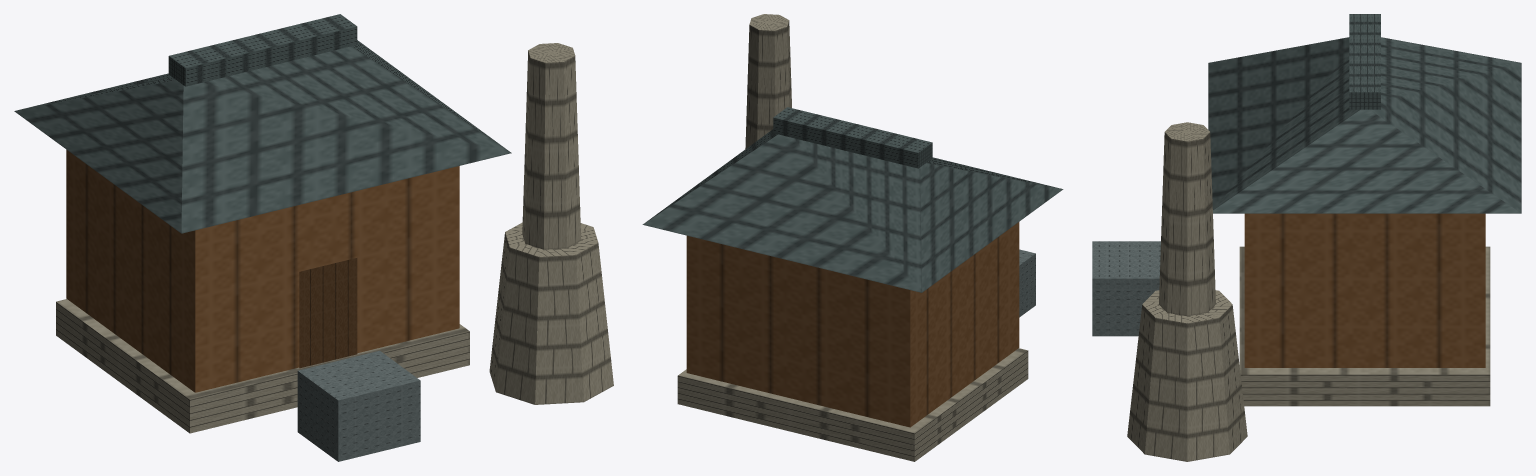
Rendered from domestic-SMITH-1-lod2.glb.
The picture shows the model from 3 angles, left to right: view 1: azimuth 30°, elevation 25°; view 2: azimuth 150°, elevation 25°; view 3: azimuth 270°, elevation 25°; orthographic projection. The views are drawn at different scales.
Size of the model in its own units: 0.7063 by 0.53 by 0.677.
Materials: 1 (1 with a texture image).
